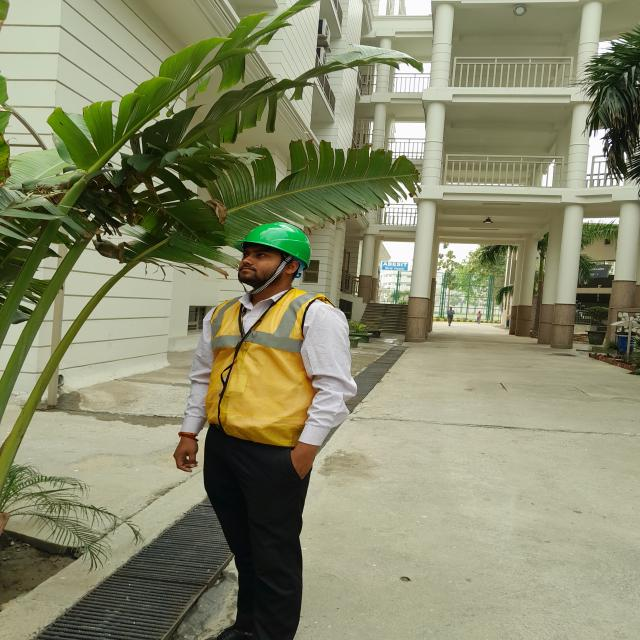safe: (178, 222, 354, 640)
